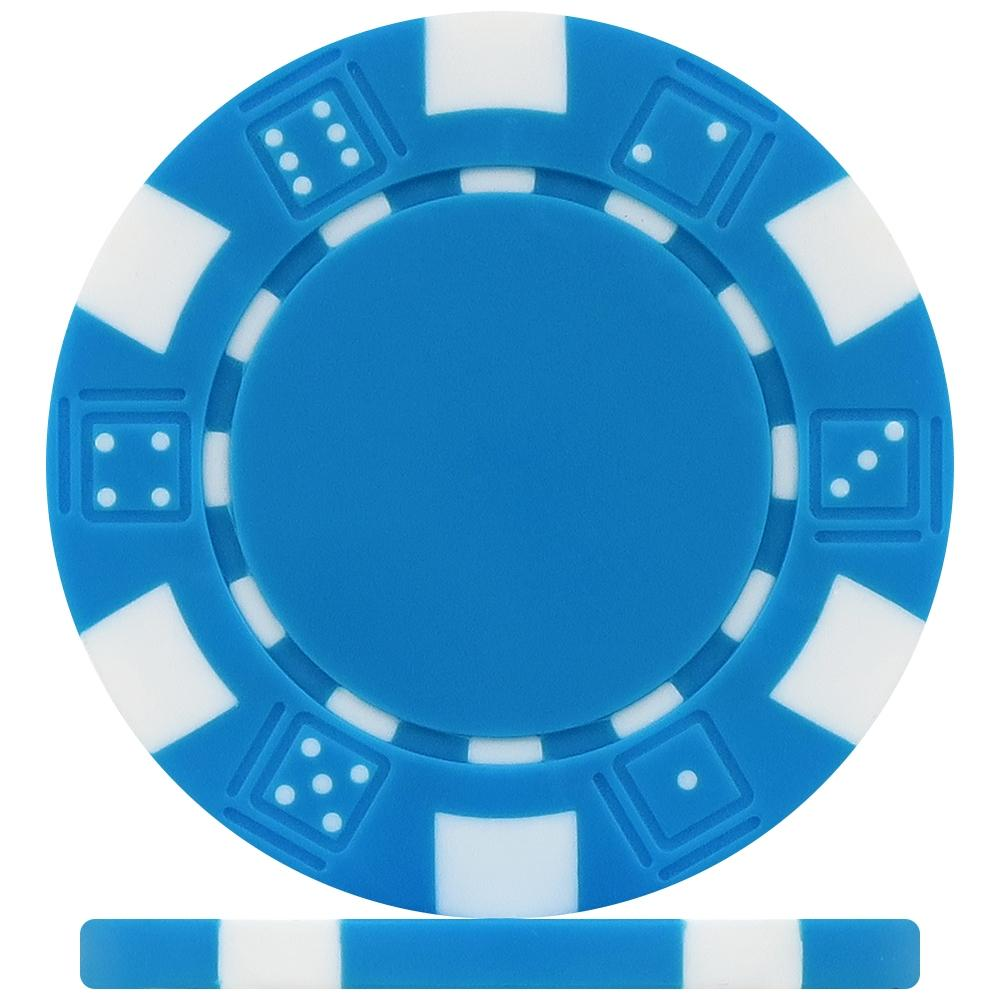chip-blue: (47, 12, 953, 917), (80, 918, 920, 989)
